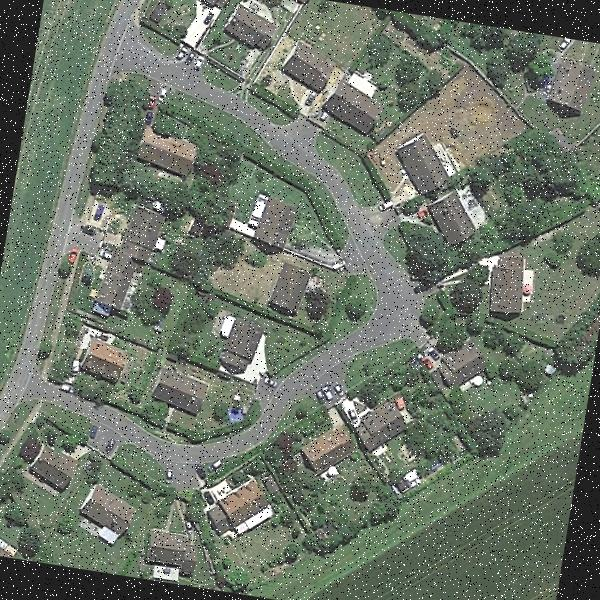Buildings: (102, 202, 158, 308), (202, 474, 271, 542), (336, 60, 386, 136), (266, 260, 316, 320), (545, 59, 595, 114), (215, 6, 280, 46), (148, 526, 198, 577), (26, 444, 82, 486), (360, 394, 404, 446), (79, 488, 129, 532), (218, 316, 259, 369), (436, 344, 484, 389), (494, 251, 528, 313), (76, 342, 130, 380), (155, 371, 207, 410), (300, 430, 354, 467), (432, 199, 475, 243), (406, 148, 445, 191), (148, 136, 190, 172), (284, 49, 326, 85), (257, 204, 293, 243), (181, 0, 242, 8), (0, 529, 15, 558)
